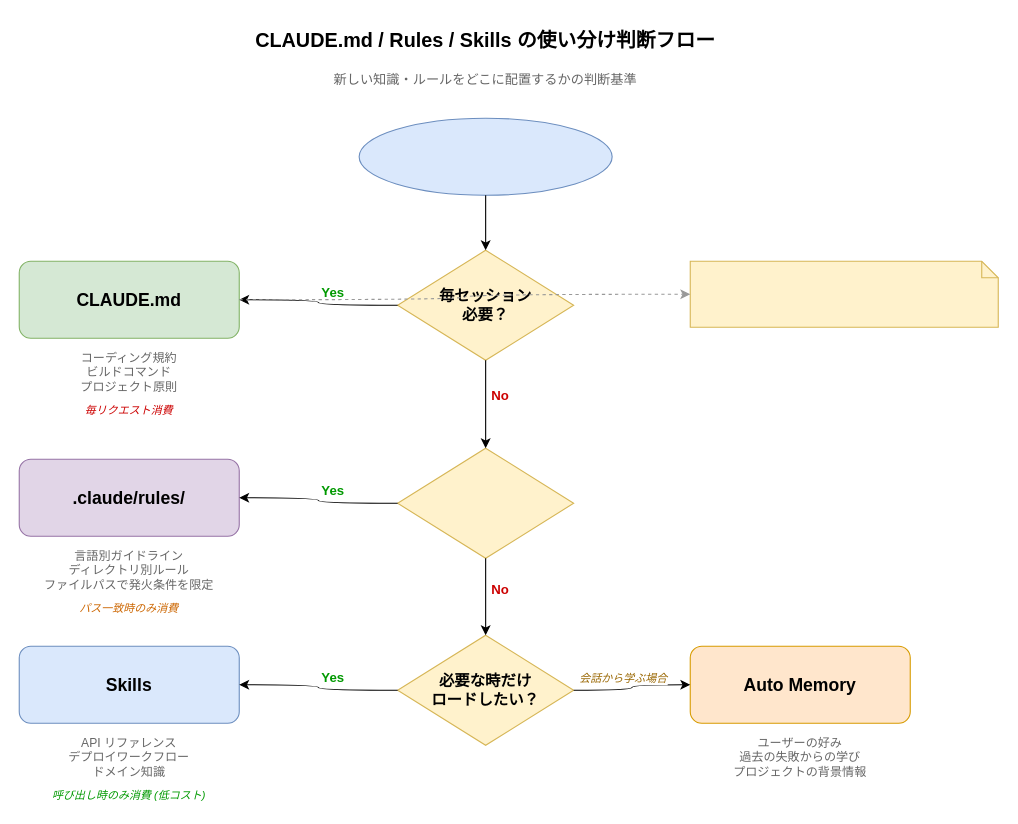
This 1018x824 diagram has some shape labels left out. The shapes that lost their labels are listed below. From the top down, each one's box as (x1, y1, x2, y2) in pixels, then its label:
(358, 117, 612, 195): 知識・ルールを Claude に伝えたい
(689, 260, 998, 327): CLAUDE.md は 200 行以下を推奨 肥大化したらリファレンスを Skills に移す
(397, 447, 574, 558): 特定ファイル 操作時だけ？
